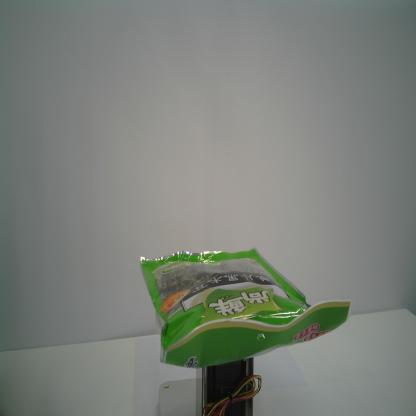Dried Food: (139, 247, 353, 370)
